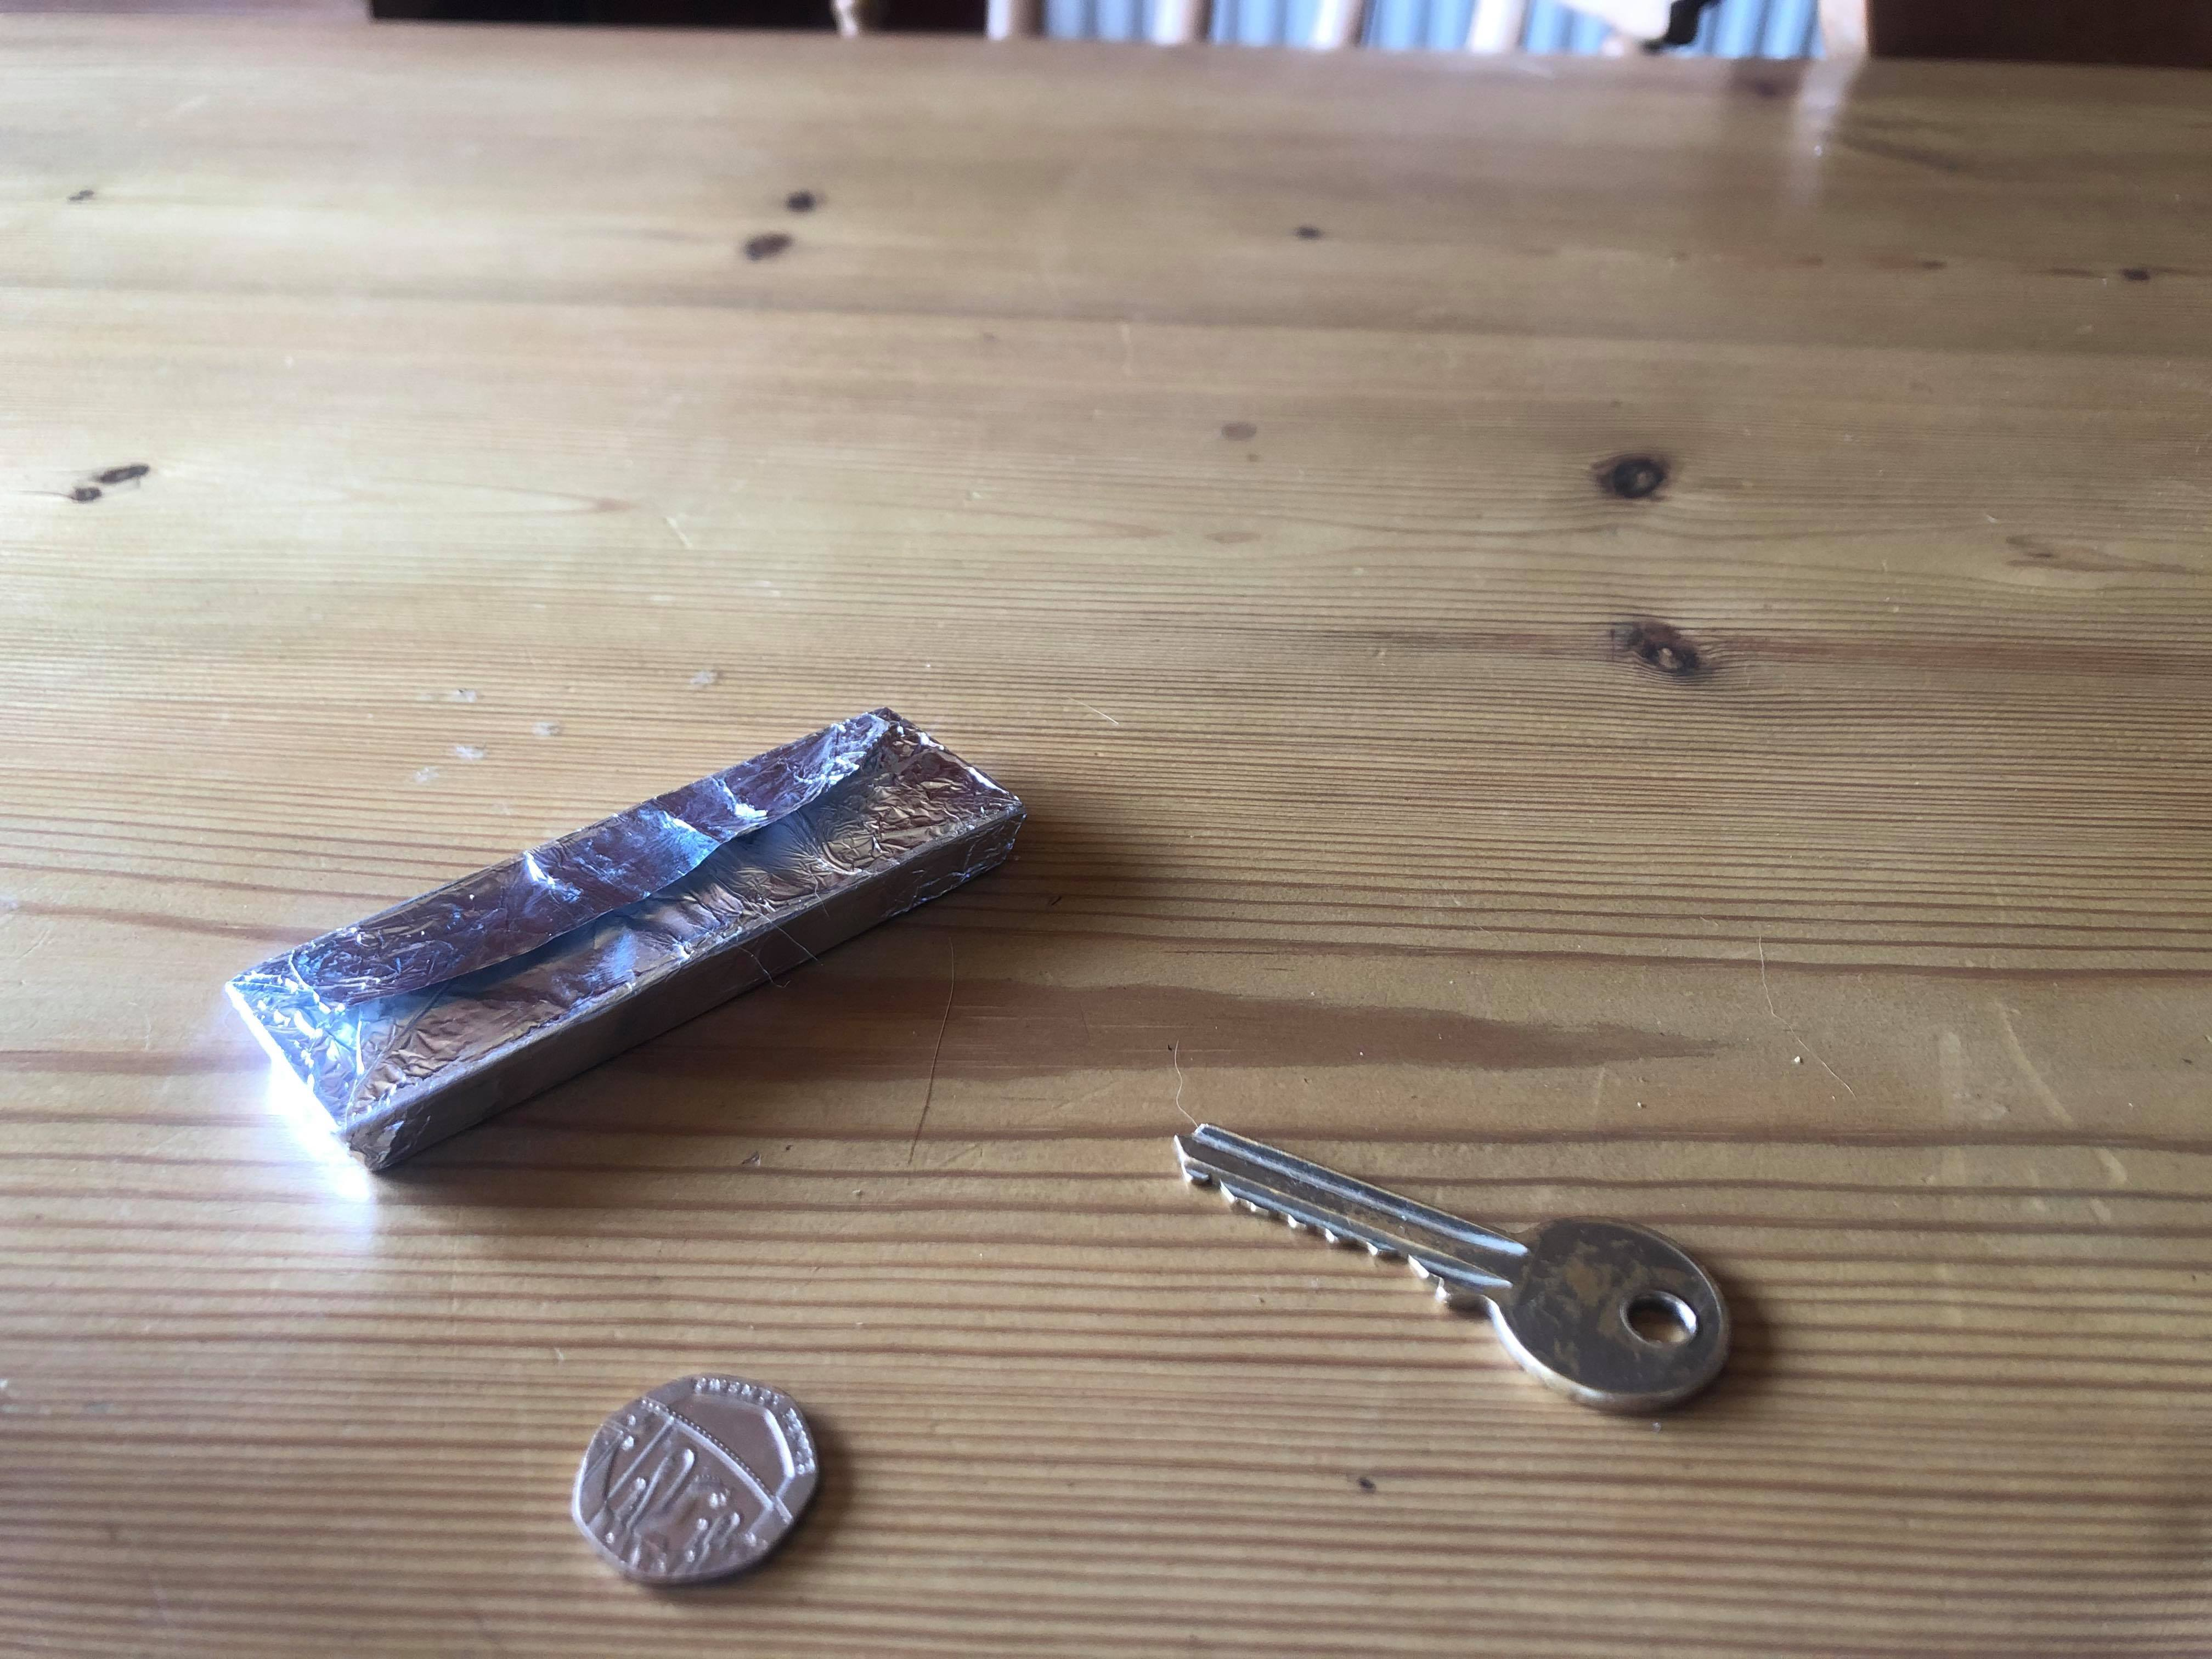Coin: (570, 1364, 824, 1589)
Foil: (211, 706, 1029, 1178)
Key: (1165, 1108, 1745, 1420)
